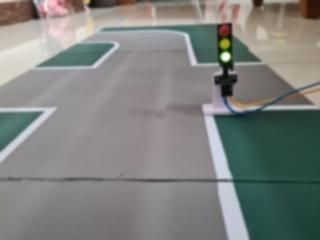green: (209, 17, 237, 74)
